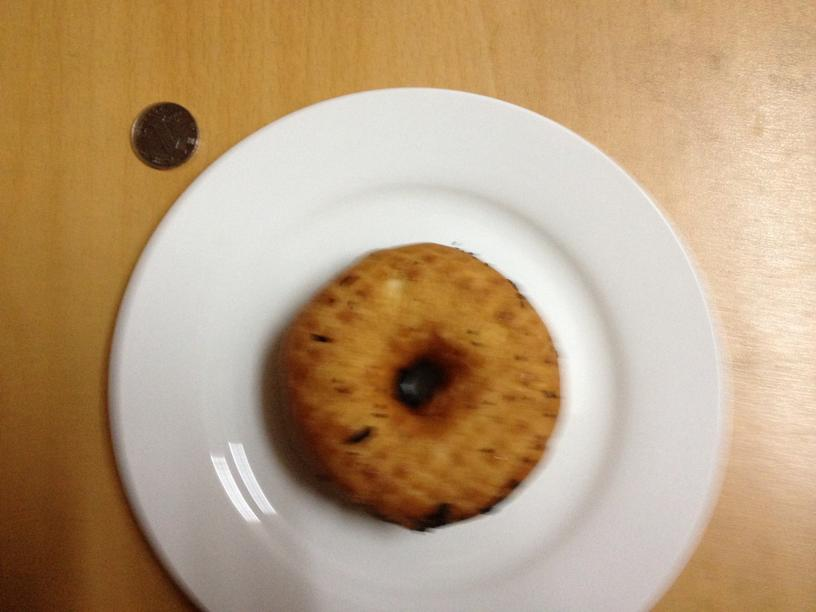coin: (130, 102, 198, 168)
doughnut: (269, 243, 563, 530)
